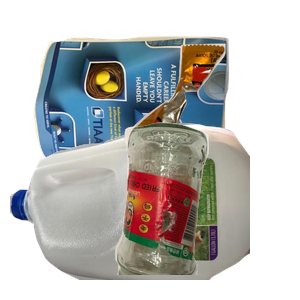glass: (112, 120, 300, 300)
paper: (31, 34, 252, 205)
plastic: (10, 120, 250, 300)
trash: (122, 41, 300, 190)
